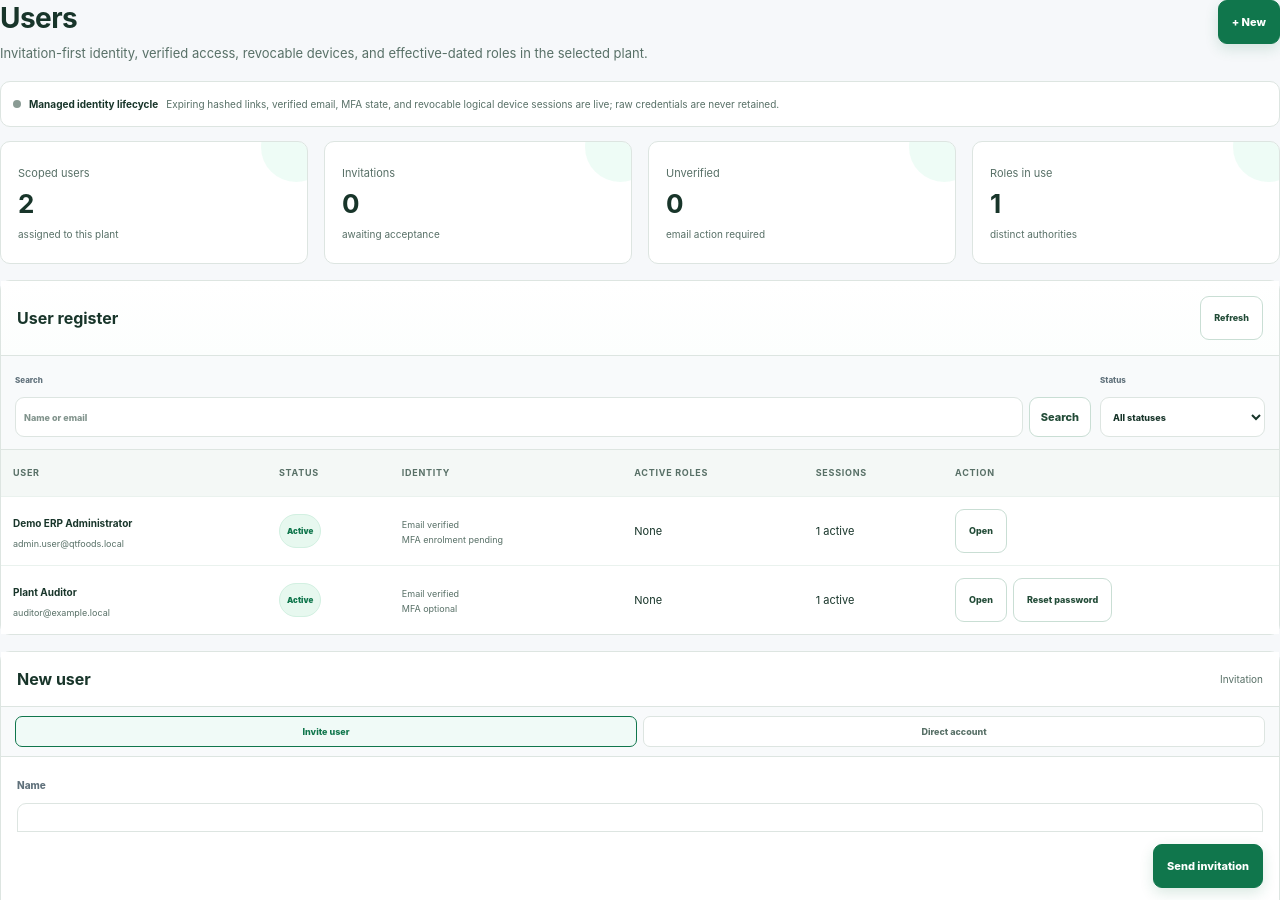
Test: foundation administration workspaces › issues a write-only temporary password that must be replaced
Click the button "Reset password" at {"x": 1062, "y": 600}, box x1=1013 y1=578 x2=1112 y2=622
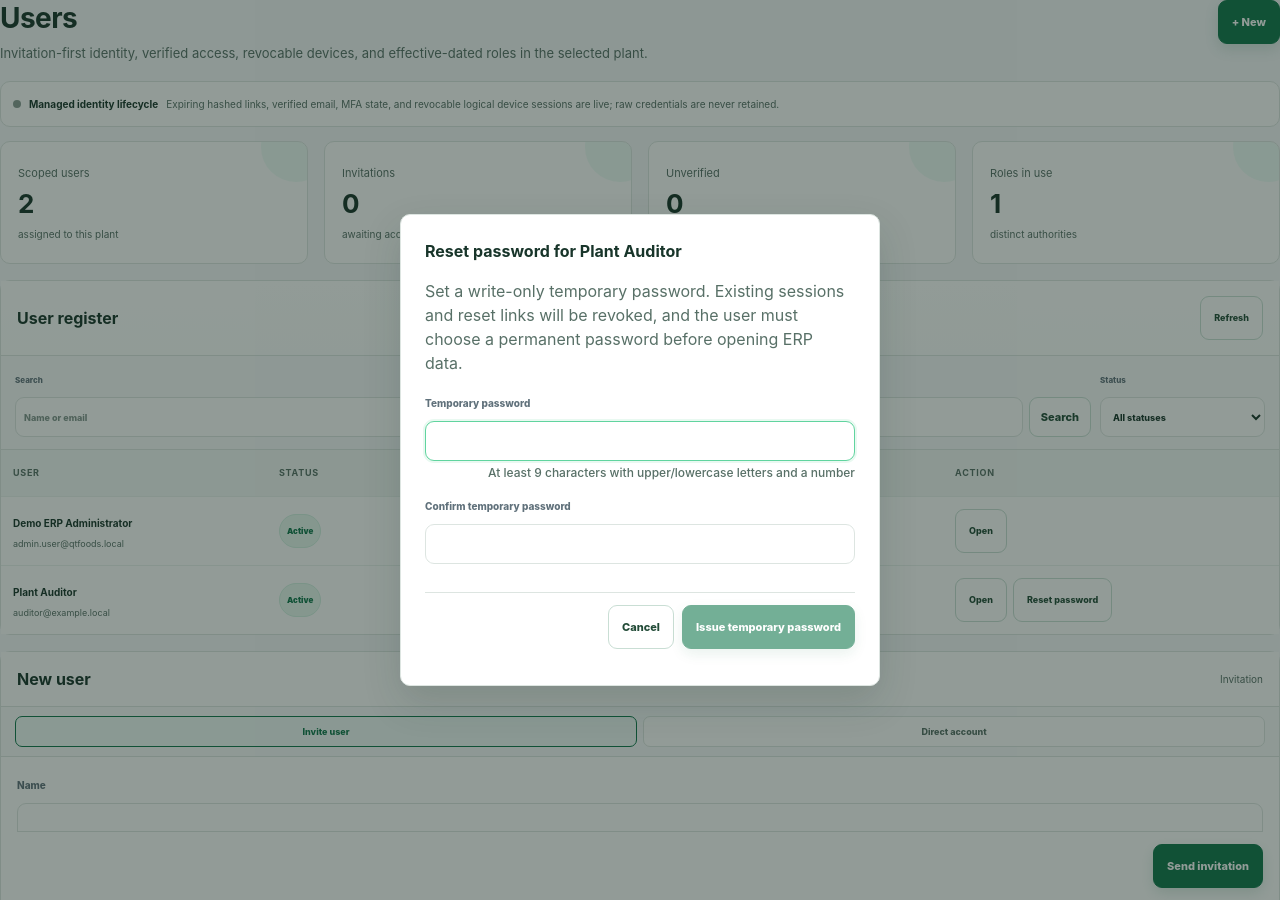
Type "TempPass9x" into the password field labelled "Temporary password" at {"x": 640, "y": 441}, box x1=425 y1=421 x2=855 y2=461
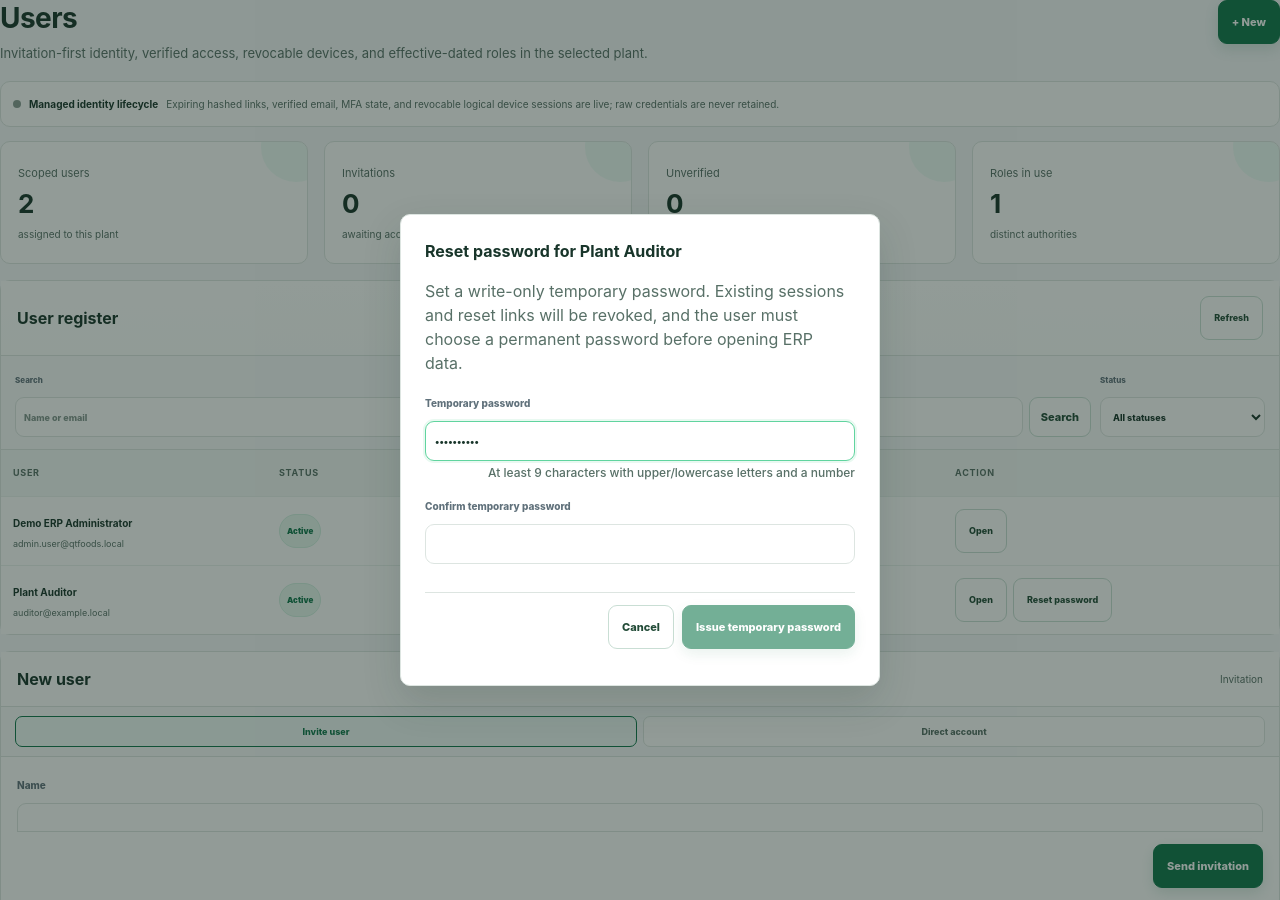
Type "TempPass9x" into the password field labelled "Confirm temporary password" at {"x": 640, "y": 544}, box x1=425 y1=524 x2=855 y2=564
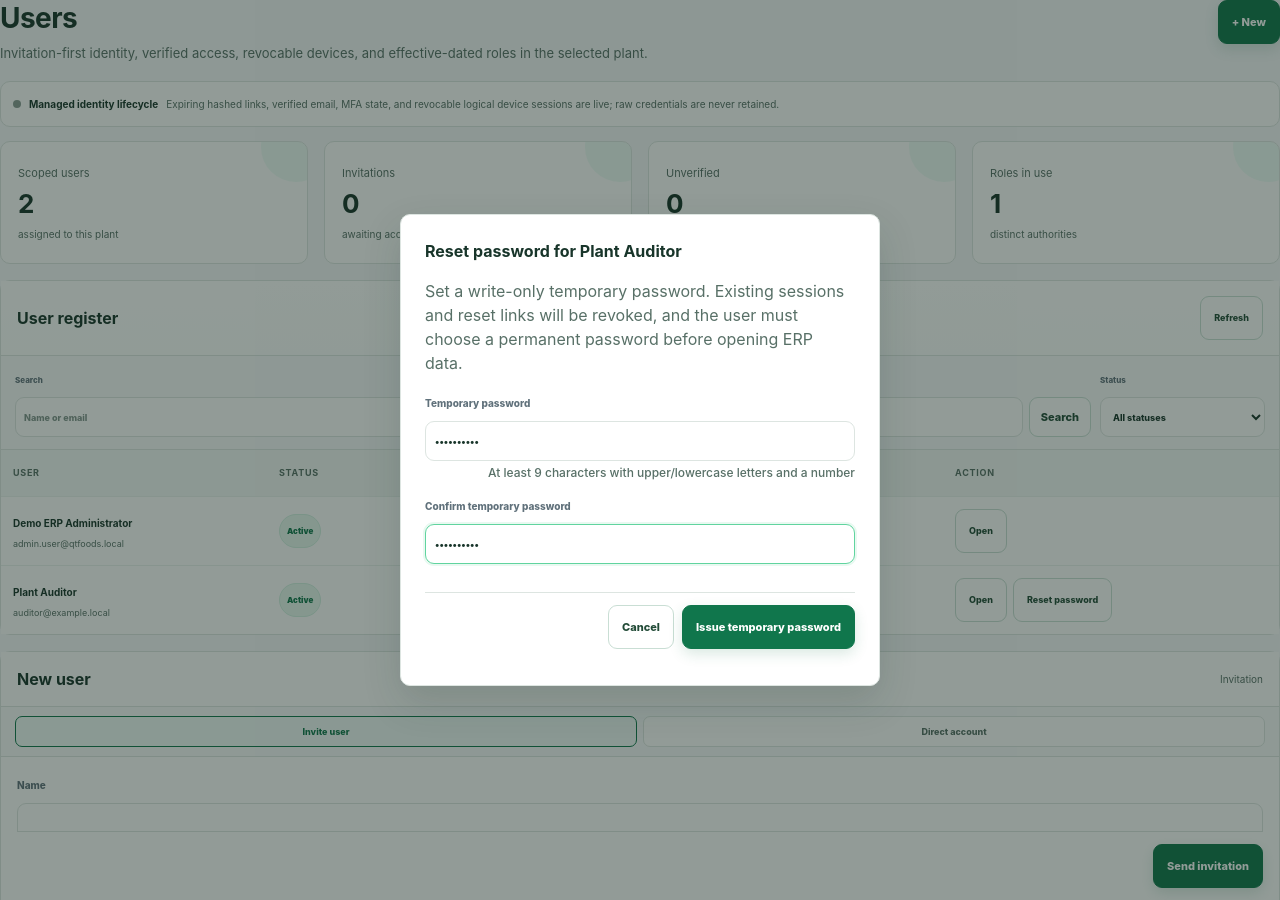
Click the button "Issue temporary password" at {"x": 768, "y": 627}, box x1=682 y1=605 x2=855 y2=649
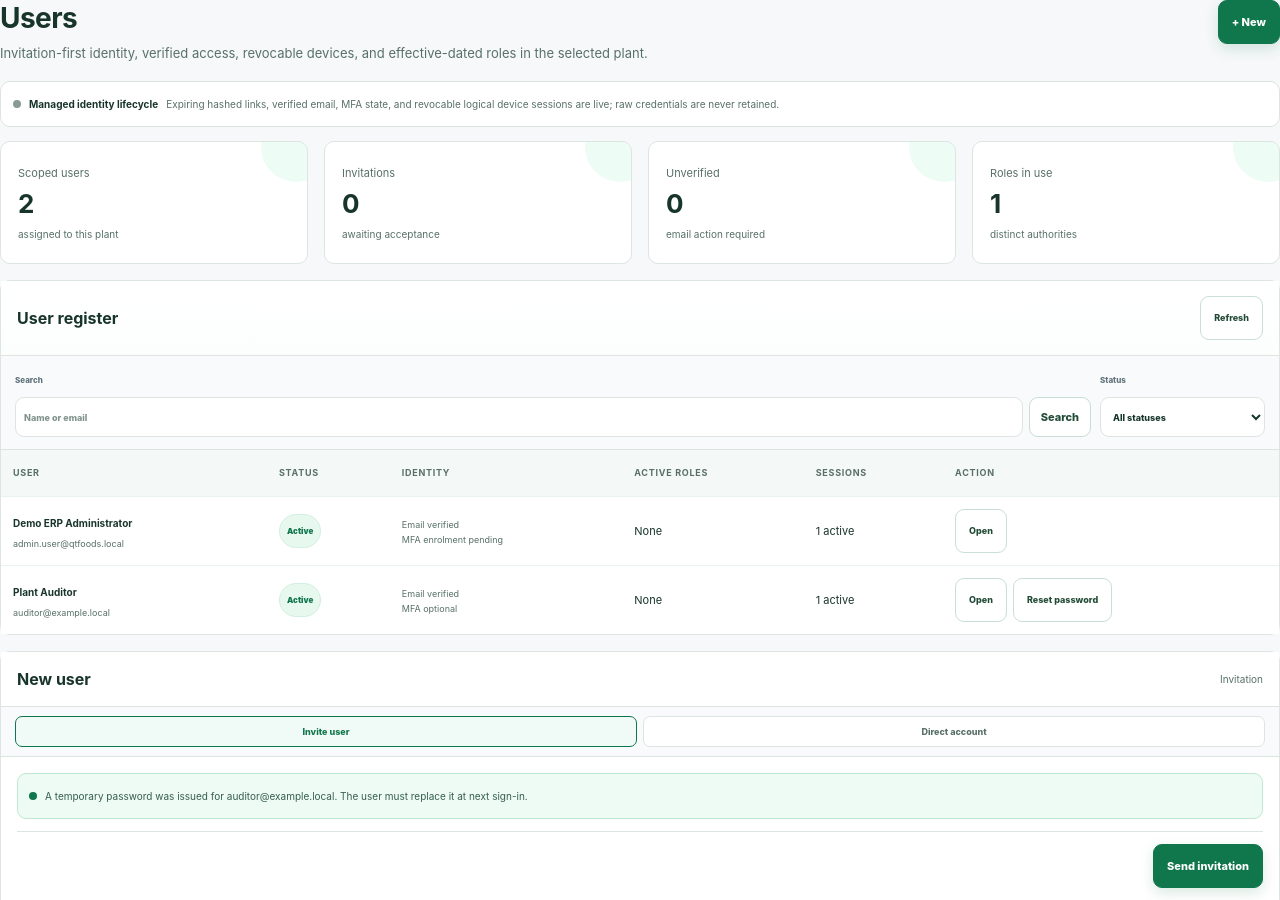
Now the message shows "must replace it at next sign-in", box x1=45 y1=790 x2=528 y2=802
